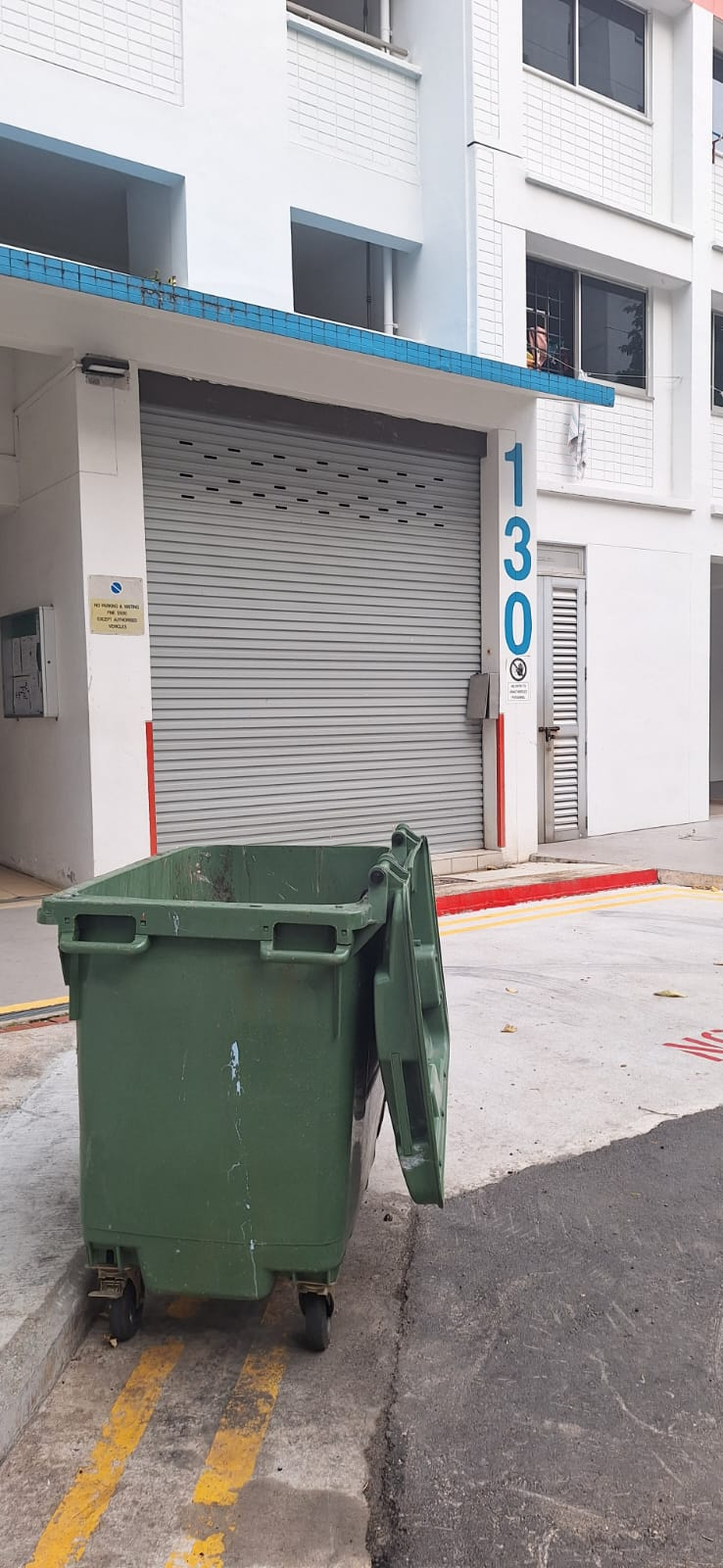bin_empty: (38, 823, 449, 1350)
